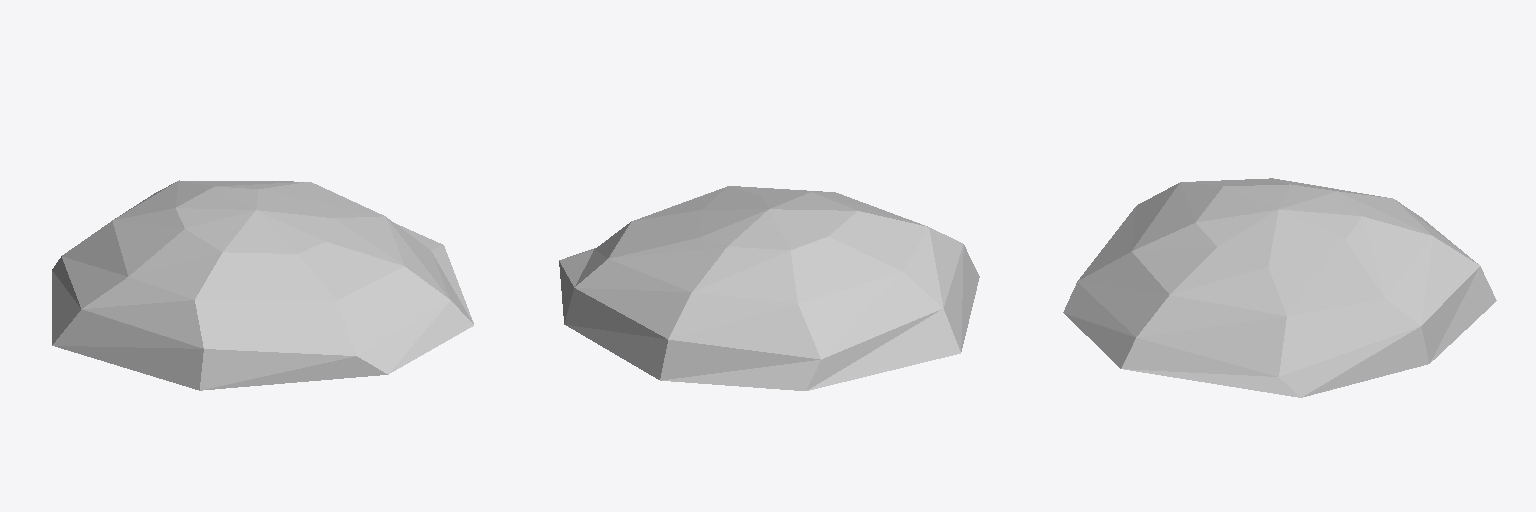
Rendered from rock_flat.obj.
The picture shows the model from 3 angles: view 1: azimuth 30°, elevation 25°; view 2: azimuth 150°, elevation 25°; view 3: azimuth 270°, elevation 25°; orthographic projection.
Parts seen in each view (by area): view 1: Plane; view 2: Plane; view 3: Plane.
Boxes of the visible parts, x1=… form: Plane: x1=52, y1=180, x2=473, y2=390; Plane: x1=559, y1=186, x2=979, y2=390; Plane: x1=1063, y1=178, x2=1496, y2=397.
Size of the model in its own units: 2.7 by 0.6045 by 2.56.